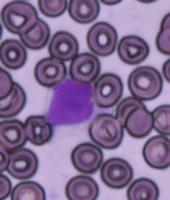M: (43, 74, 96, 130)
